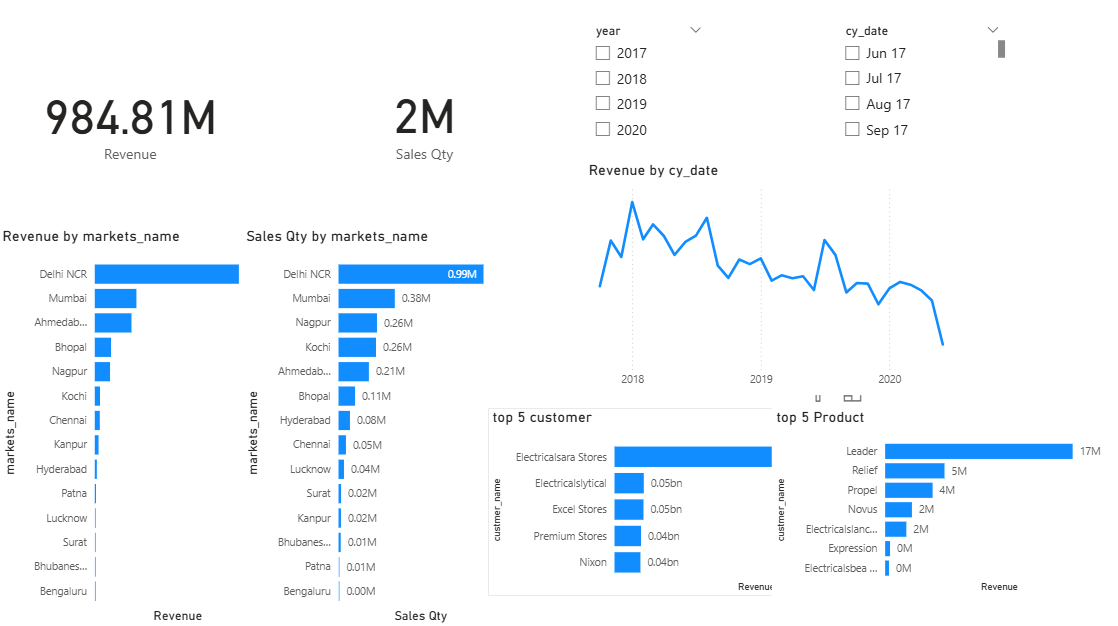

This screenshot's page, from the dashboard's own definition file:
{"tool":"powerbi","page":{"name":"Page 1","canvas":[1280,720],"ordinal":0},"visuals":[{"type":"card","fields":{"Values":["Base_Measures.Revenue"]},"box":[27.4,32.9,248.4,214.1],"z":0},{"type":"card","fields":{"Values":["Base_Measures.Sales Qty"]},"box":[355.4,26.1,263.5,227.8],"z":1000},{"type":"barChart","fields":{"Category":["sales markets.markets_name"],"Y":["Base_Measures.Revenue"]},"box":[0,262,306,458],"z":2000},{"type":"barChart","fields":{"Category":["sales markets.markets_name"],"Y":["Base_Measures.Sales Qty"]},"box":[278,262,304,458],"z":3000},{"type":"slicer","fields":{"Values":["sales date.year"]},"box":[670,24,146,150],"z":4000},{"type":"slicer","fields":{"Values":["sales date.cy_date"]},"box":[956,24,200,150],"z":5000},{"type":"barChart","title":"top 5 customer","fields":{"Category":["sales customers.custmer_name"],"Y":["Base_Measures.Revenue"]},"box":[560,468,474,216],"z":6000},{"type":"barChart","title":"top 5 Product","fields":{"Category":["sales customers.custmer_name"],"Y":["Base_Measures.Revenue"]},"box":[884,468,396,216],"z":7000},{"type":"lineChart","fields":{"Y":["Base_Measures.Revenue"],"Category":["sales date.cy_date"]},"box":[670,186,428,268],"z":7002}]}

Visuals, with their boxes in screenshot pixels (x1, y1, x2, y2), scaled from the page's 1280x720 canvas onto the 1118x626 screenshot:
card - Base_Measures.Revenue: (24, 29, 241, 215)
card - Base_Measures.Sales Qty: (310, 23, 541, 221)
barChart - sales markets.markets_name x Base_Measures.Revenue: (0, 228, 267, 625)
barChart - sales markets.markets_name x Base_Measures.Sales Qty: (243, 228, 508, 625)
slicer - sales date.year: (585, 21, 713, 151)
slicer - sales date.cy_date: (835, 21, 1010, 151)
"top 5 customer" barChart: (489, 407, 903, 595)
"top 5 Product" barChart: (772, 407, 1117, 595)
lineChart - Base_Measures.Revenue x sales date.cy_date: (585, 162, 959, 395)
